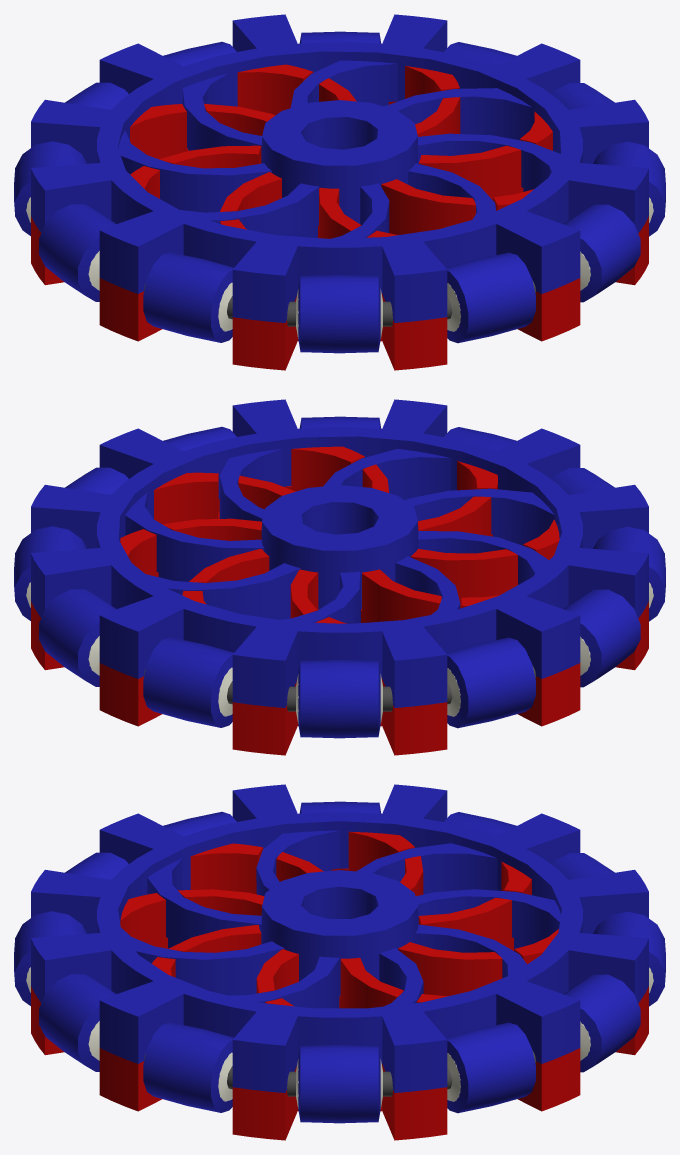
The model's file is Metric_Wheel_Assembly.obj.
3 views of the same model, one above another, from view 1: azimuth 30°, elevation 25°; view 2: azimuth 150°, elevation 25°; view 3: azimuth 270°, elevation 25° (orthographic).
Visible parts, largest first — view 1: Solid1:1, Solid1, Solid1:23, Solid1:26, Solid1:20, Solid1:29, Solid1:17, Solid1:32, Solid1:14, Solid1:35, Solid1:11, Solid1:5 (+2 smaller); view 2: Solid1:1, Solid1, Solid1:35, Solid1:2, Solid1:32, Solid1:5, Solid1:29, Solid1:8, Solid1:26, Solid1:11, Solid1:23, Solid1:17 (+2 smaller); view 3: Solid1:1, Solid1, Solid1:11, Solid1:14, Solid1:8, Solid1:17, Solid1:5, Solid1:20, Solid1:2, Solid1:23, Solid1:35, Solid1:29 (+2 smaller).
Part boxes in pixels (bbox=[...]): Solid1:1: bbox=[31, 14, 648, 322]; Solid1: bbox=[31, 64, 648, 370]; Solid1:23: bbox=[298, 275, 380, 353]; Solid1:26: bbox=[143, 252, 233, 342]; Solid1:20: bbox=[446, 252, 535, 343]; Solid1:29: bbox=[39, 204, 116, 301]; Solid1:17: bbox=[563, 204, 640, 302]; Solid1:32: bbox=[14, 141, 86, 235]; Solid1:14: bbox=[593, 141, 665, 236]; Solid1:35: bbox=[65, 82, 128, 109]; Solid1:11: bbox=[551, 83, 614, 109]; Solid1:5: bbox=[299, 31, 381, 43]; Solid1:1: bbox=[31, 399, 648, 707]; Solid1: bbox=[31, 446, 648, 755]; Solid1:35: bbox=[298, 660, 380, 738]; Solid1:2: bbox=[143, 637, 233, 727]; Solid1:32: bbox=[446, 637, 535, 728]; Solid1:5: bbox=[39, 589, 116, 686]; Solid1:29: bbox=[563, 589, 640, 687]; Solid1:8: bbox=[14, 526, 86, 620]; Solid1:26: bbox=[593, 526, 665, 621]; Solid1:11: bbox=[65, 467, 128, 494]; Solid1:23: bbox=[551, 468, 614, 494]; Solid1:17: bbox=[299, 416, 381, 428]; Solid1:1: bbox=[31, 784, 648, 1092]; Solid1: bbox=[31, 831, 648, 1140]; Solid1:11: bbox=[298, 1045, 380, 1123]; Solid1:14: bbox=[143, 1022, 233, 1112]; Solid1:8: bbox=[446, 1022, 535, 1113]; Solid1:17: bbox=[39, 974, 116, 1071]; Solid1:5: bbox=[563, 974, 640, 1072]; Solid1:20: bbox=[14, 911, 86, 1005]; Solid1:2: bbox=[593, 911, 665, 1006]; Solid1:23: bbox=[65, 852, 128, 879]; Solid1:35: bbox=[551, 853, 614, 879]; Solid1:29: bbox=[299, 801, 381, 813].
Bounding box in the file's own units: 125 × 25 × 125.
